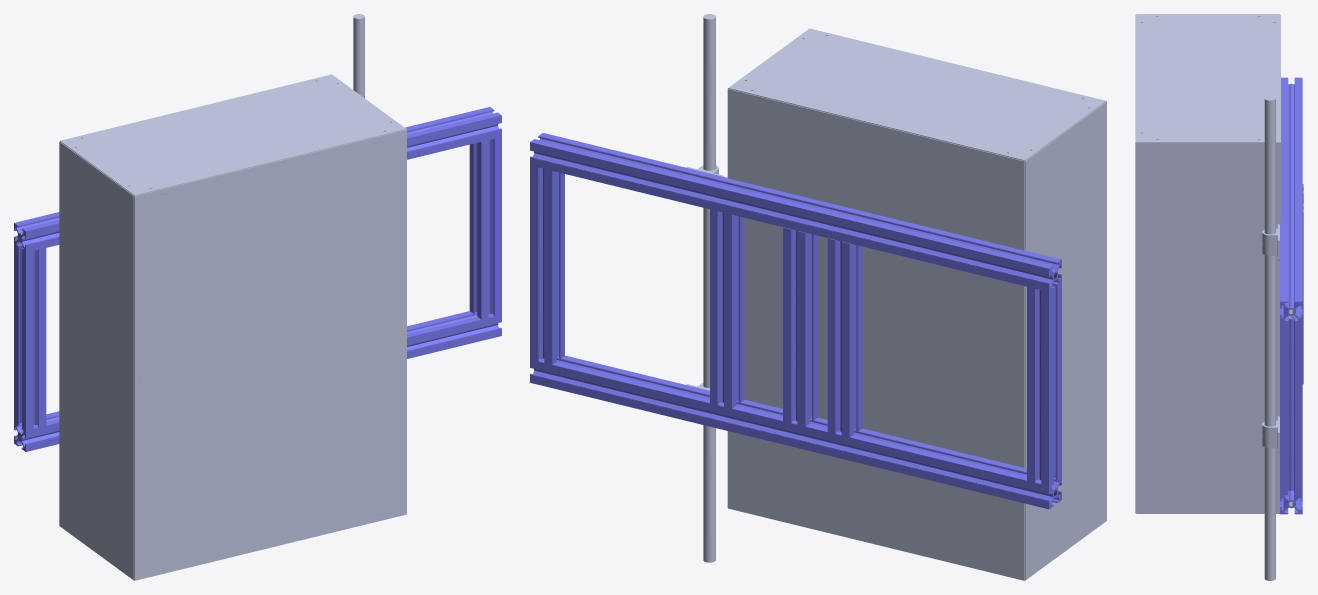
File: Body.obj
3 views of the same model, side by side, from view 1: azimuth 30°, elevation 25°; view 2: azimuth 150°, elevation 25°; view 3: azimuth 270°, elevation 25° (orthographic). The views are drawn at different scales.
Parts seen in each view (by area): view 1: Body; view 2: Body; view 3: Body.
Part boxes in pixels (box(x1,y1,x2,y2)): Body: box(14, 14, 501, 580); Body: box(530, 14, 1106, 580); Body: box(1135, 14, 1303, 580).
Size of the model in its own units: 0.7 by 0.7 by 0.222.
4 materials, 1 textured.
